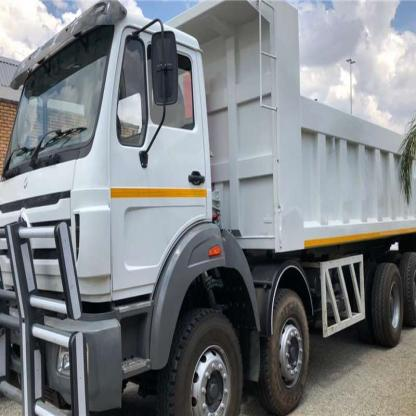dump_truck: (19, 9, 416, 415)
